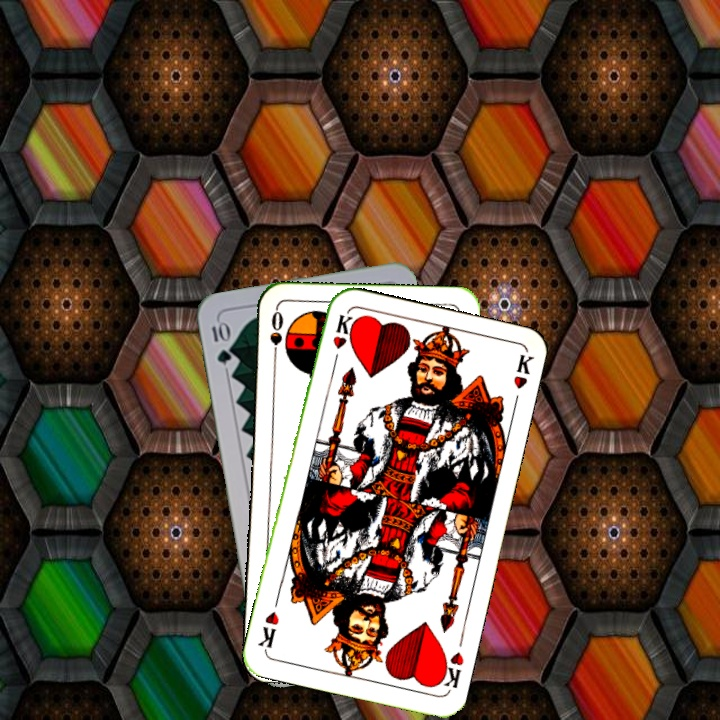G10: (207, 317, 234, 367)
HK: (328, 311, 355, 369), (433, 648, 467, 693)
SO: (266, 307, 286, 366)
